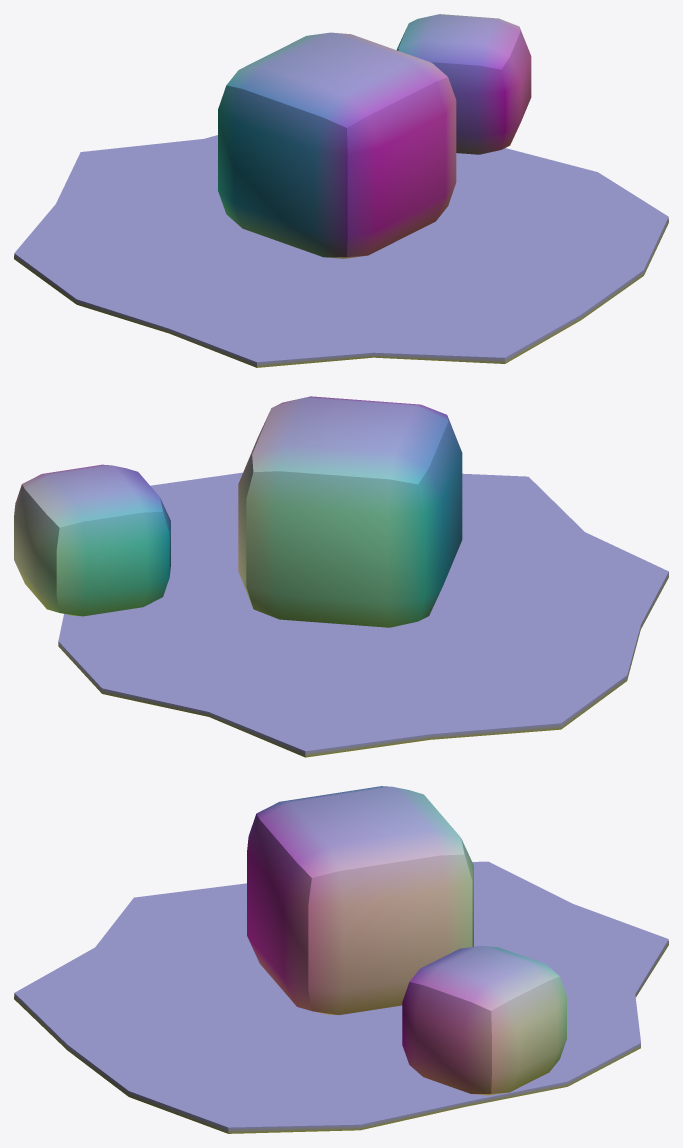
File: env_deco_ice.glb
3 views of the same model, one above another, from view 1: azimuth 30°, elevation 25°; view 2: azimuth 150°, elevation 25°; view 3: azimuth 270°, elevation 25° (orthographic). The views are drawn at different scales.
Parts seen in each view (by area): view 1: env_deco_ice_mesh; view 2: env_deco_ice_mesh; view 3: env_deco_ice_mesh.
Boxes of the visible parts, left/top/right/bottom form: env_deco_ice_mesh: left=14, top=14, right=668, bottom=367; env_deco_ice_mesh: left=14, top=396, right=668, bottom=757; env_deco_ice_mesh: left=14, top=786, right=668, bottom=1133.
Bounding box in the file's own units: 0.4057 × 0.13 × 0.4219.
